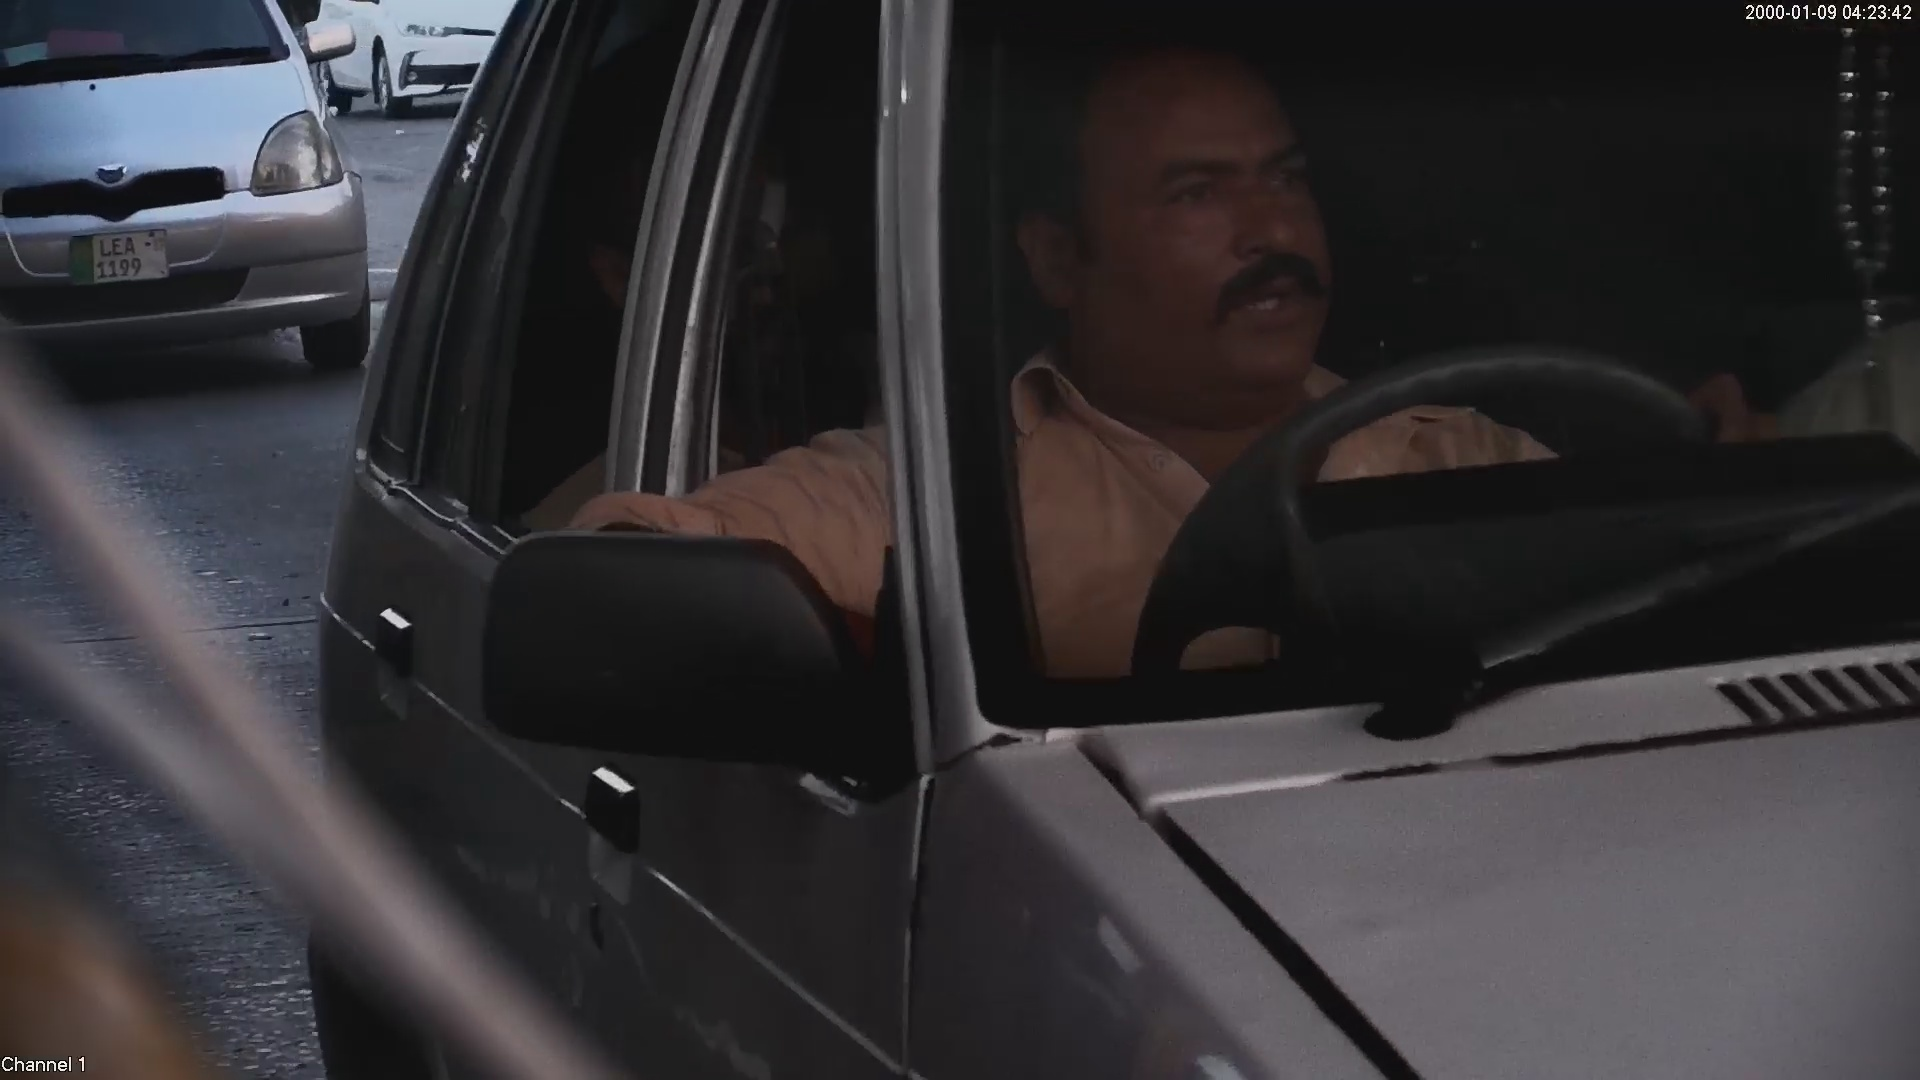Number_Plate: (56, 220, 182, 286)
